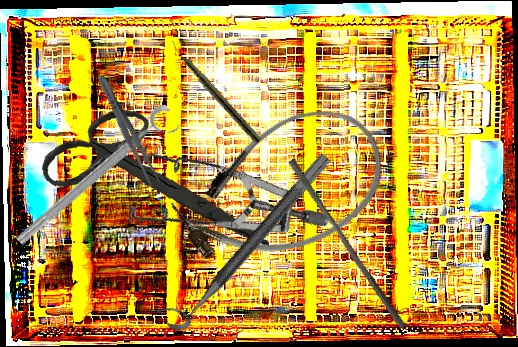Cannula: (157, 87, 405, 292)
Dressing Forceps: (93, 72, 163, 188)
Fixation Ring: (154, 139, 333, 337), (11, 101, 185, 259)
Handpiece: (167, 39, 263, 145)
Iris Scissors: (37, 96, 270, 268)
Pusher: (282, 157, 413, 330)
Speculum: (99, 91, 332, 323)
